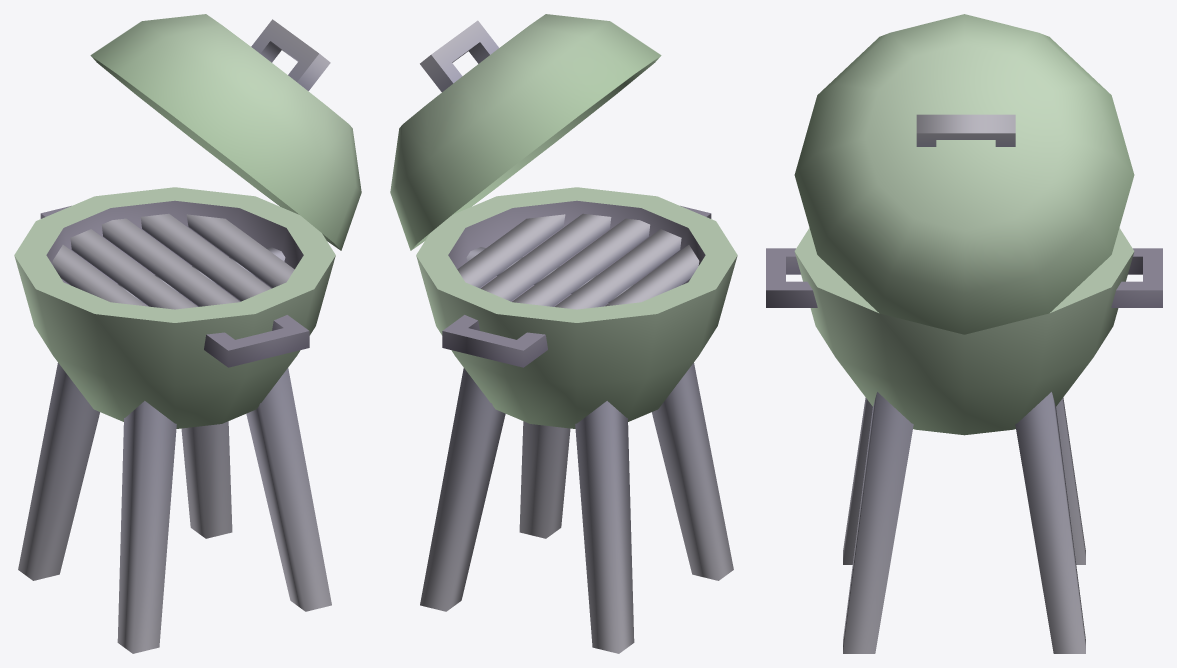
The model's file is barbecue-round.glb.
The picture shows the model from 3 angles, left to right: view 1: azimuth 30°, elevation 25°; view 2: azimuth 150°, elevation 25°; view 3: azimuth 270°, elevation 25°; orthographic projection. The views are drawn at different scales.
Parts seen in each view (by area): view 1: barbecue-round; view 2: barbecue-round; view 3: barbecue-round.
Part boxes in pixels (left/top/right/bottom): barbecue-round: left=14, top=14, right=361, bottom=653; barbecue-round: left=390, top=14, right=737, bottom=653; barbecue-round: left=766, top=14, right=1162, bottom=653.
Size of the model in its own units: 0.4282 by 0.7476 by 0.4606.
